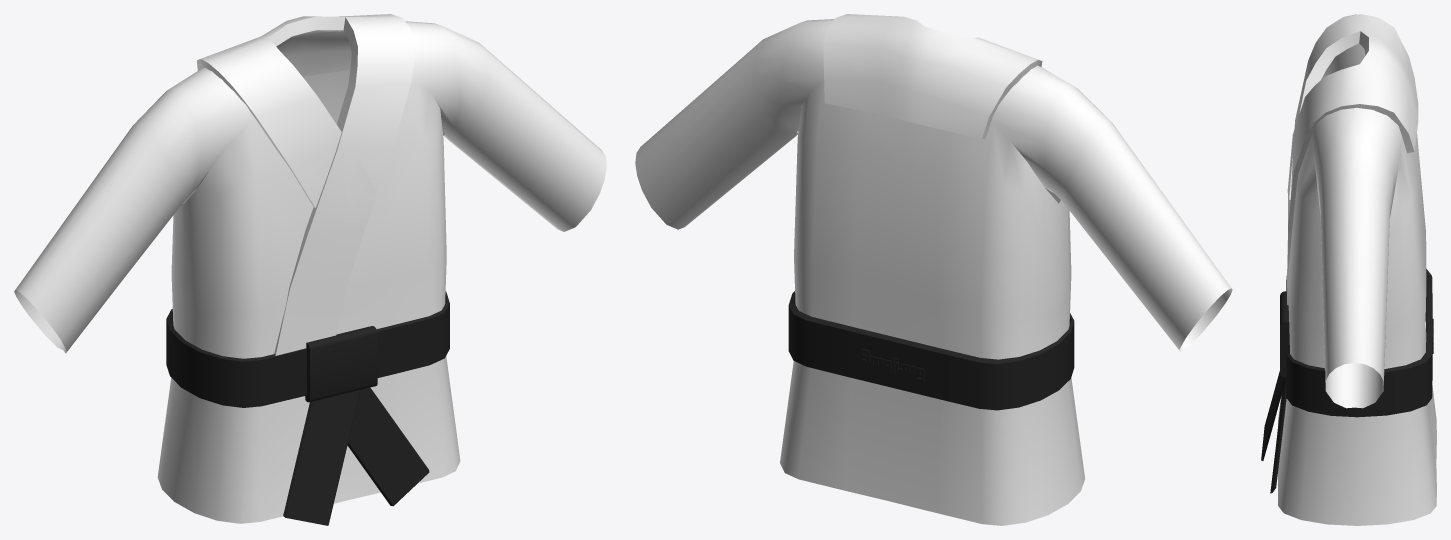
File: martial_arts_uniform.glb
3 views of the same model, side by side, from view 1: azimuth 30°, elevation 25°; view 2: azimuth 150°, elevation 25°; view 3: azimuth 270°, elevation 25° (orthographic). The views are drawn at different scales.
Parts seen in each view (by area): view 1: Circle.2525; view 2: Circle.2525; view 3: Circle.2525.
Part boxes in pixels (<box>): Circle.2525: <box>14,14,606,525</box>; Circle.2525: <box>635,14,1232,525</box>; Circle.2525: <box>1261,14,1436,525</box>.
Size of the model in its own units: 2.5 by 1.88 by 0.6917.
Materials: 1 (1 with a texture image).
